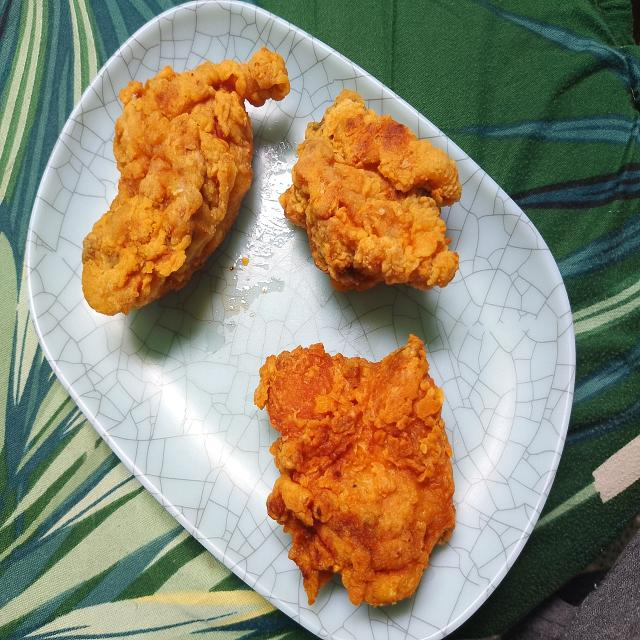Chicken -Fried Chicken-: (253, 332, 463, 617), (77, 44, 292, 322), (280, 94, 474, 302)
